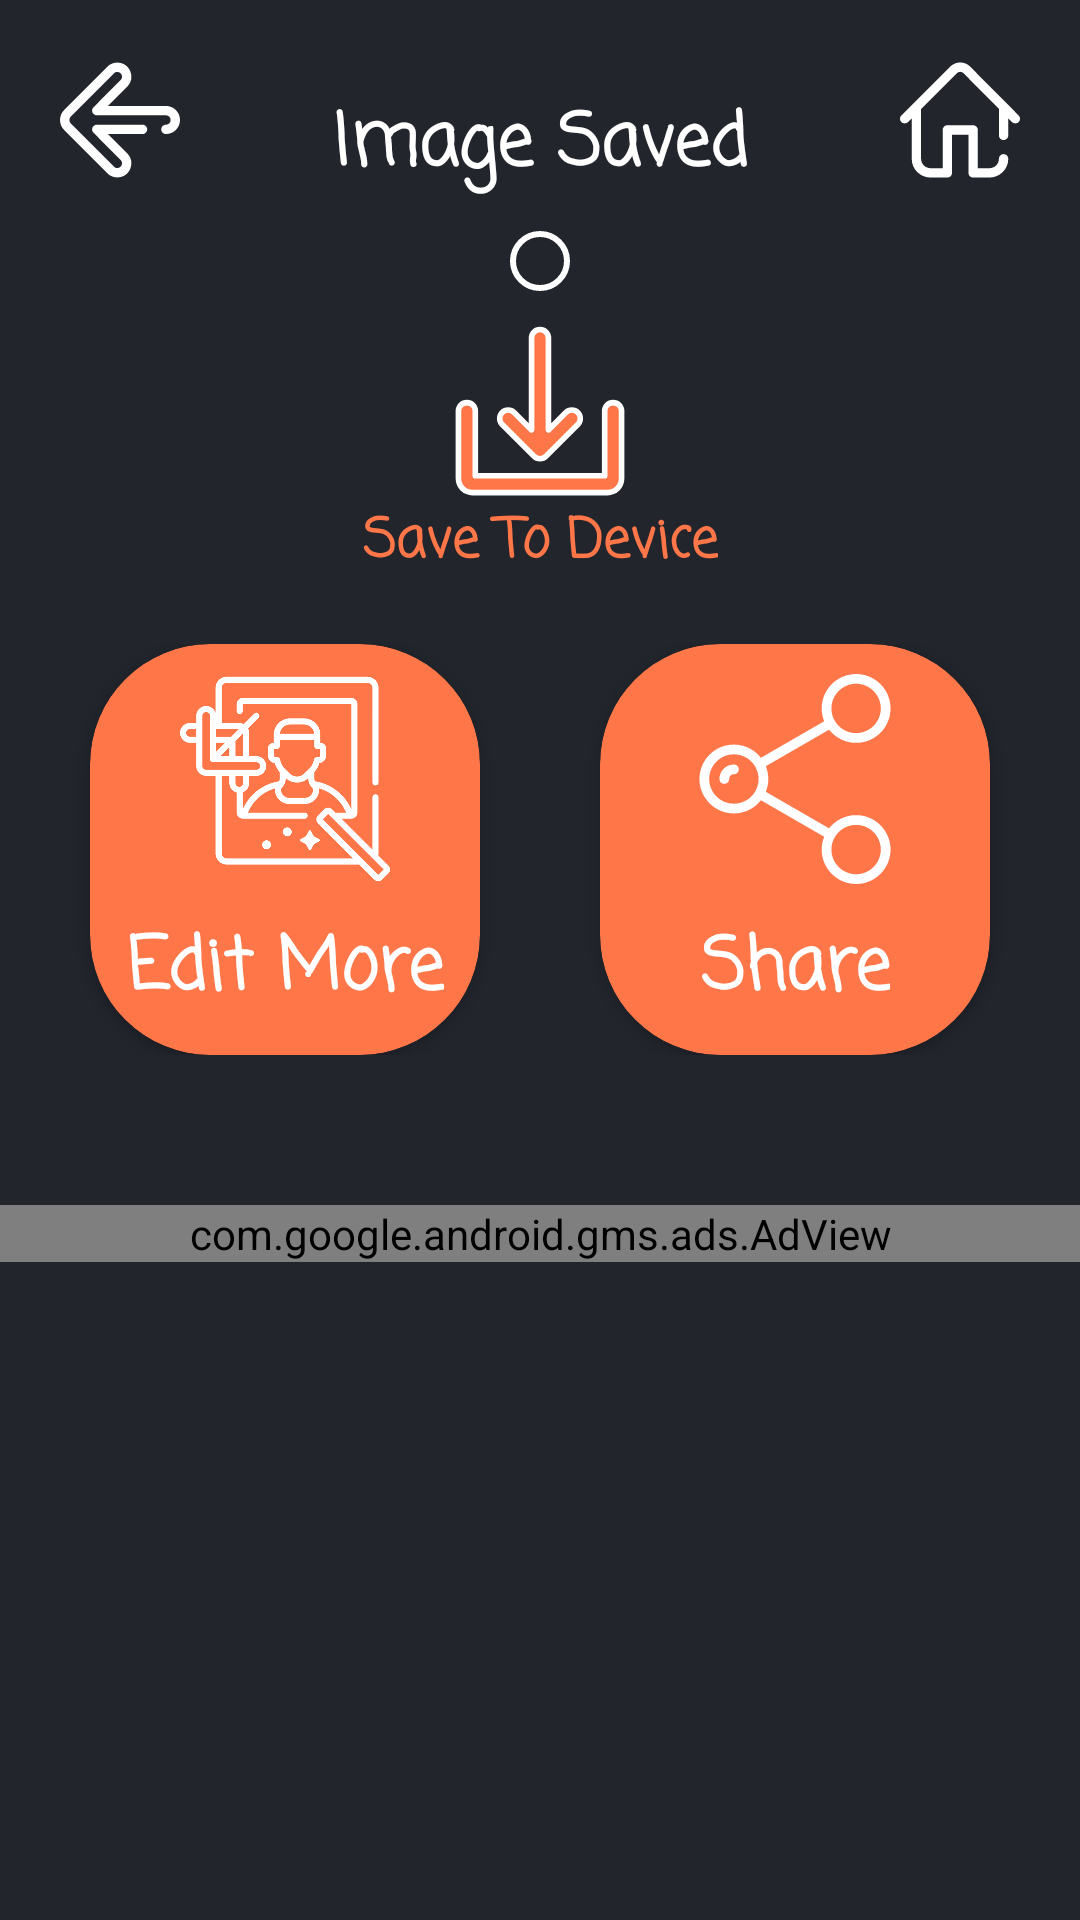

Where to tap for icons on this 1080*1920 app screen, as (x,y):
back: (120,120)
home: (960,120)
